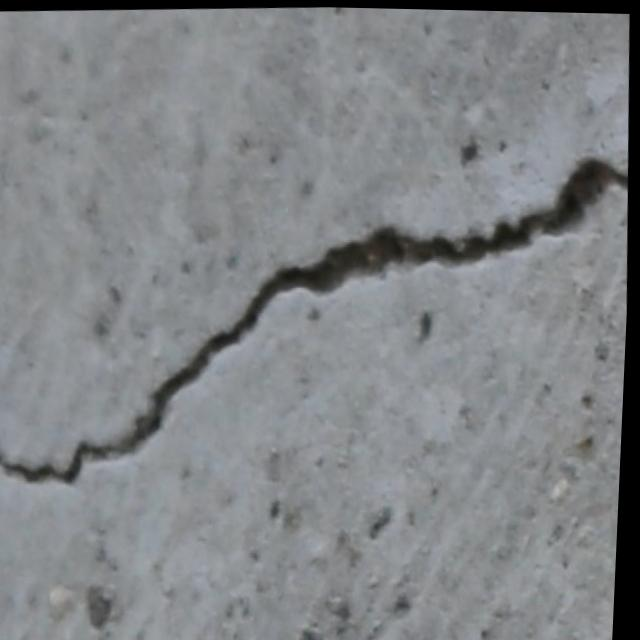Crack: (0, 126, 636, 505)
